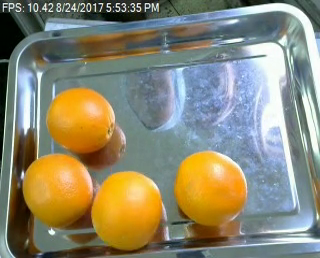Orange: (91, 169, 163, 249), (173, 149, 247, 226), (21, 152, 93, 226), (46, 87, 116, 152)
